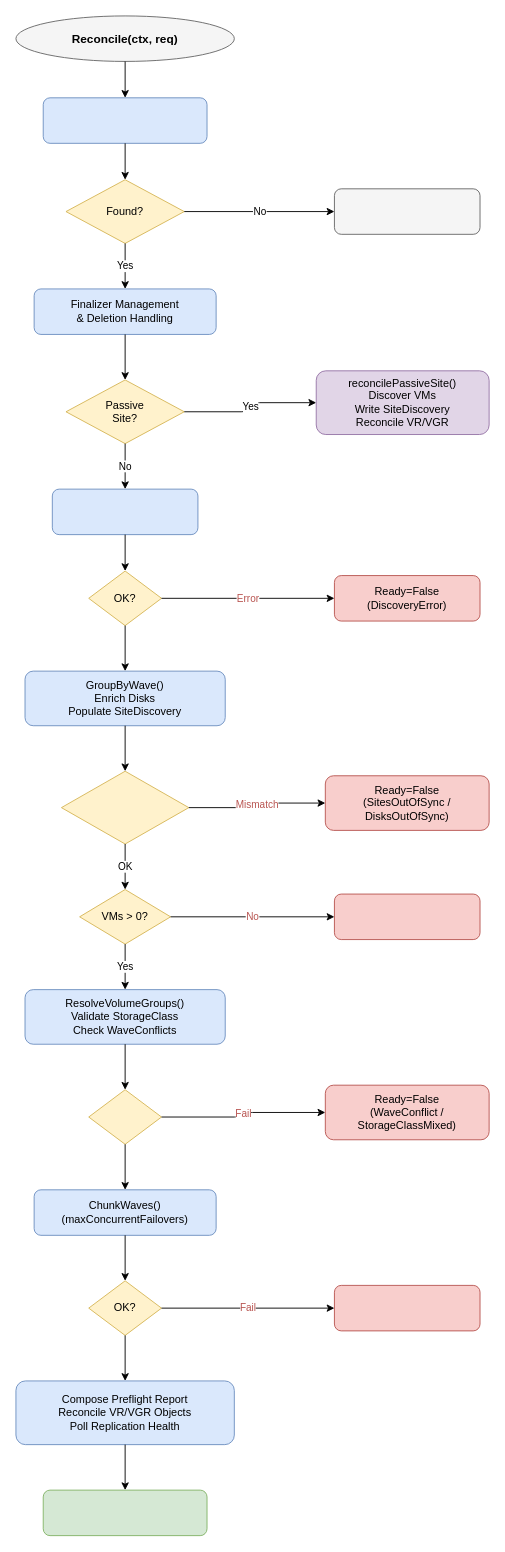
The diagram is 505 pixels wide and 1552 high, and some of its shapes have lost their labels. Each missing label, with the centre of its shape:
Clean Metrics & Return nil: pixel 407 211
DiscoverVMs(): pixel 124 511
Fetch DRPlan: pixel 124 120
Ready=False (GroupExceedsThrottle): pixel 407 1307
Ready=False (NoVMsDiscovered): pixel 407 916
Sites & Disks OK?: pixel 125 807
Update Status Ready = True: pixel 124 1512
Valid?: pixel 125 1116
